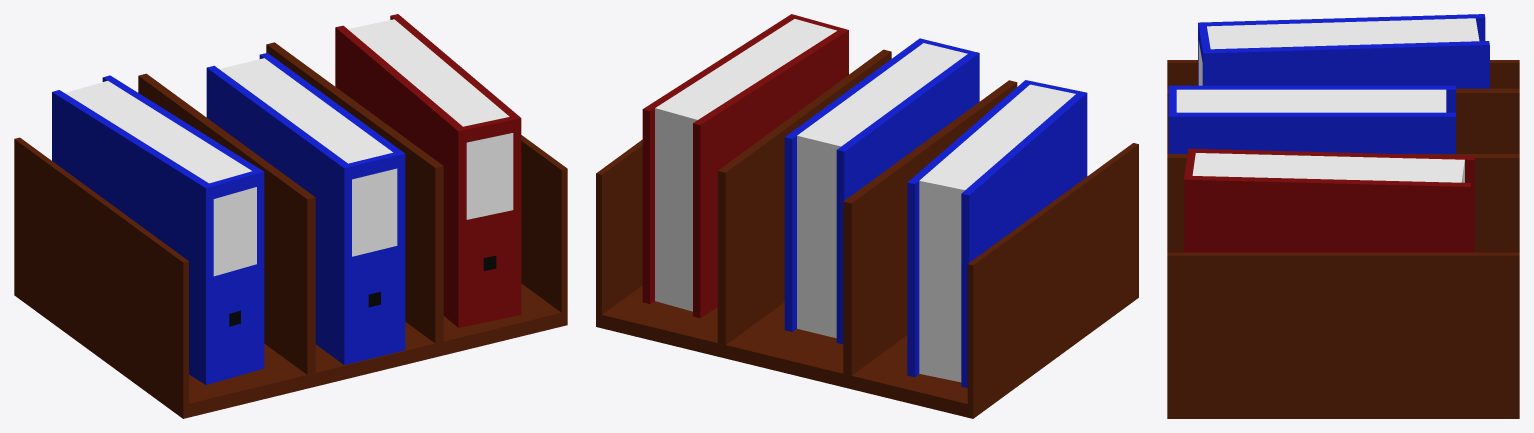
The model's file is Carpetas.FBX.
The picture shows the model from 3 angles, left to right: view 1: azimuth 30°, elevation 25°; view 2: azimuth 150°, elevation 25°; view 3: azimuth 270°, elevation 25°; orthographic projection. The views are drawn at different scales.
Visible parts, largest first — view 1: Carpetas; view 2: Carpetas; view 3: Carpetas.
Part boxes in pixels (left/top/right/bottom): Carpetas: left=14, top=14, right=567, bottom=418; Carpetas: left=596, top=14, right=1138, bottom=418; Carpetas: left=1167, top=14, right=1519, bottom=418.
Size of the model in its own units: 1.46 by 0.7638 by 1.11.
